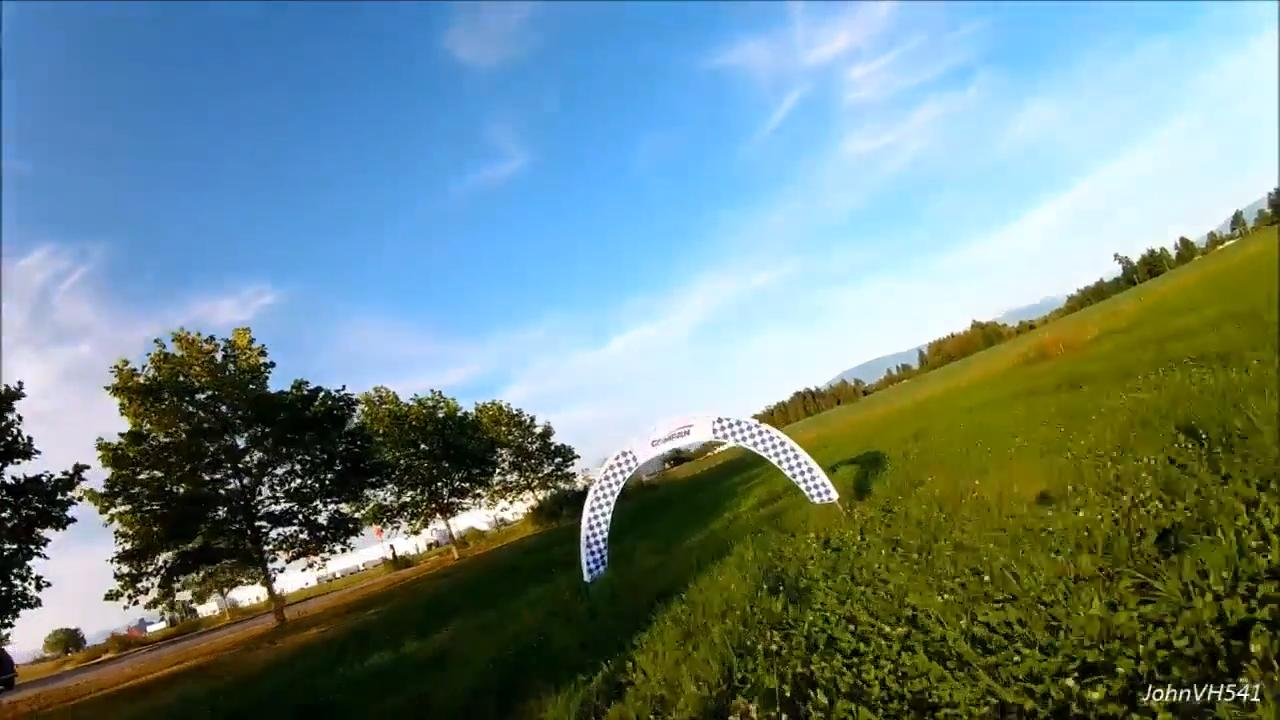gate: (578, 411, 841, 584)
